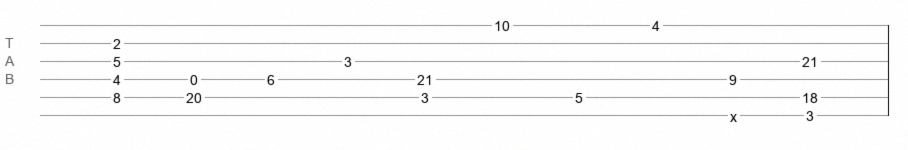0: (190, 72, 198, 82)
10: (494, 18, 510, 28)
18: (802, 90, 818, 100)
2: (113, 36, 121, 46)
20: (186, 90, 202, 100)
21: (417, 72, 433, 82), (802, 54, 818, 64)
3: (344, 54, 352, 64), (421, 90, 429, 100), (806, 108, 814, 118)
4: (113, 72, 121, 82), (652, 18, 660, 28)
5: (113, 54, 121, 64), (575, 90, 583, 100)
6: (267, 72, 275, 82)
8: (113, 90, 121, 100)
9: (729, 72, 737, 82)
x: (730, 109, 737, 117)
